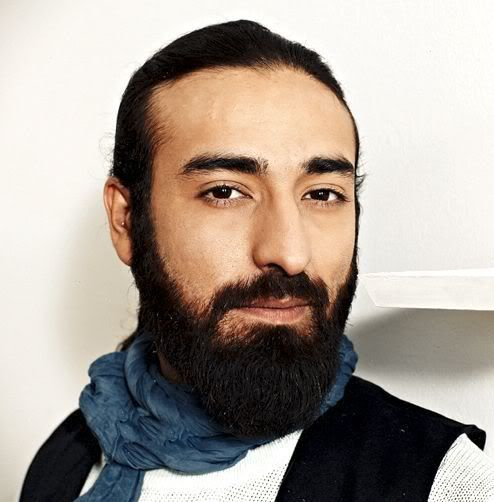person: (100, 17, 366, 385)
